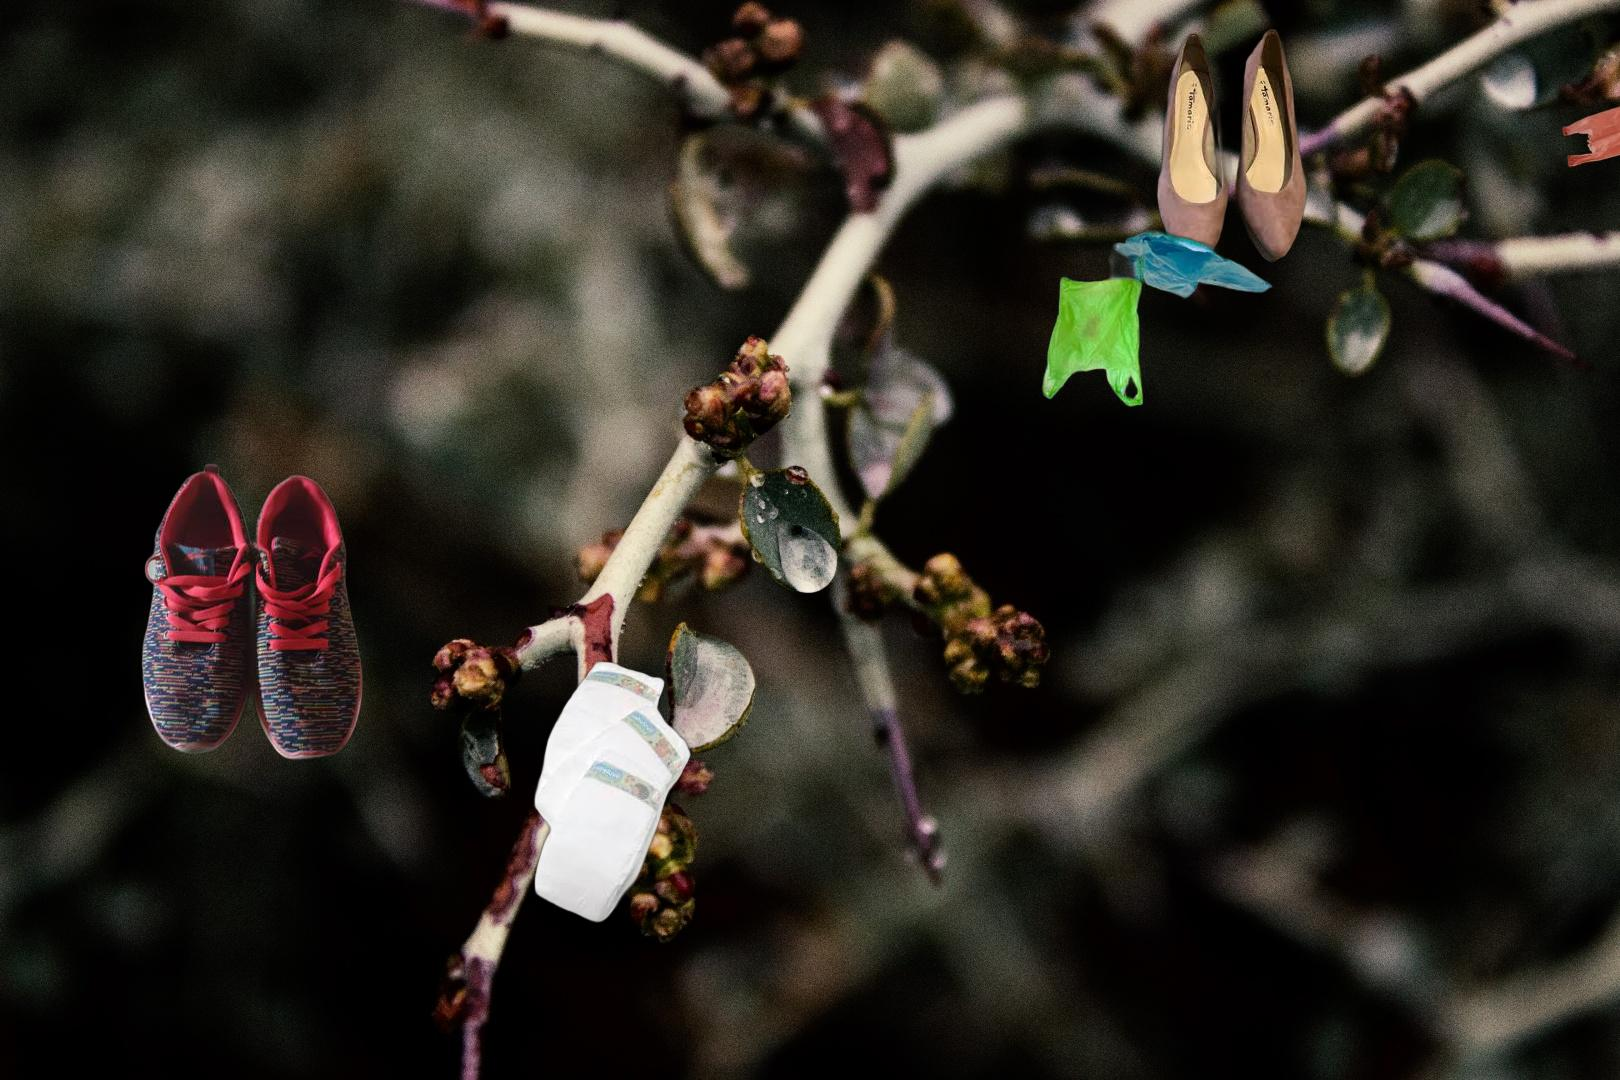plastic-bag: (1039, 125, 1281, 409), (1559, 96, 1620, 171)
shoes: (137, 459, 366, 764), (1154, 27, 1310, 276)
trash: (532, 658, 694, 925)
